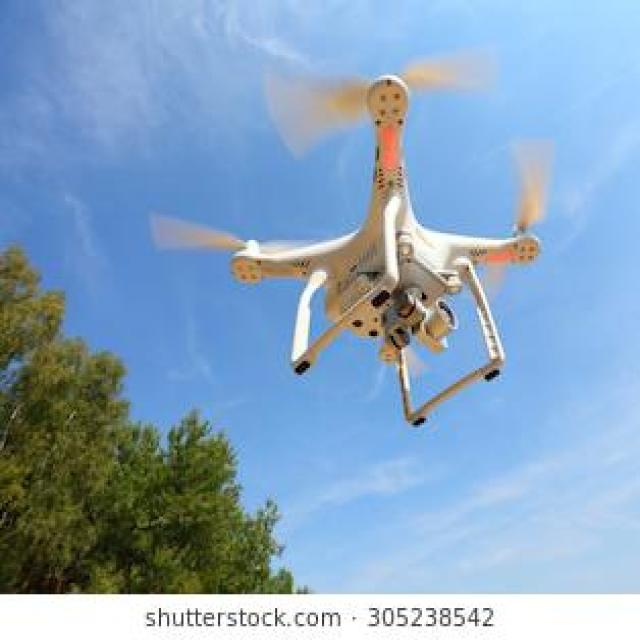drone: (142, 19, 640, 456)
